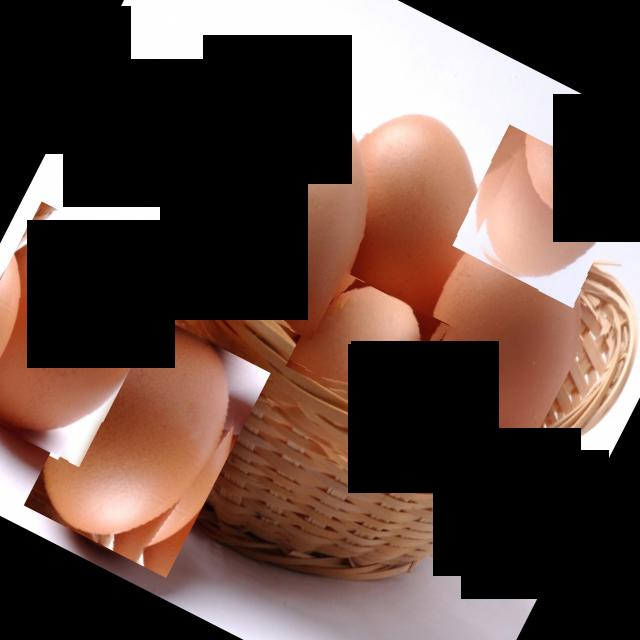eggs: (374, 193, 624, 479), (23, 300, 270, 578), (179, 86, 406, 342), (292, 92, 516, 344), (0, 201, 181, 469), (448, 125, 631, 306), (285, 268, 449, 424)
